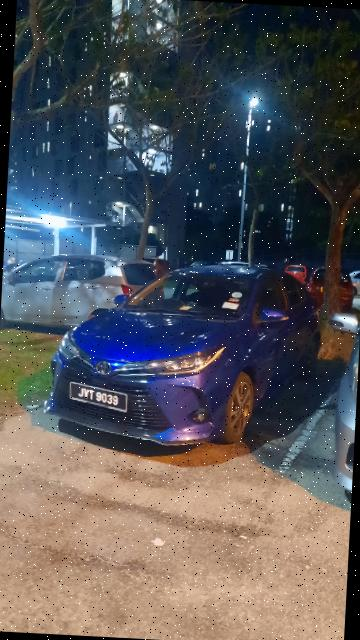License_Plate: (65, 381, 130, 418)
car: (48, 253, 328, 455)
